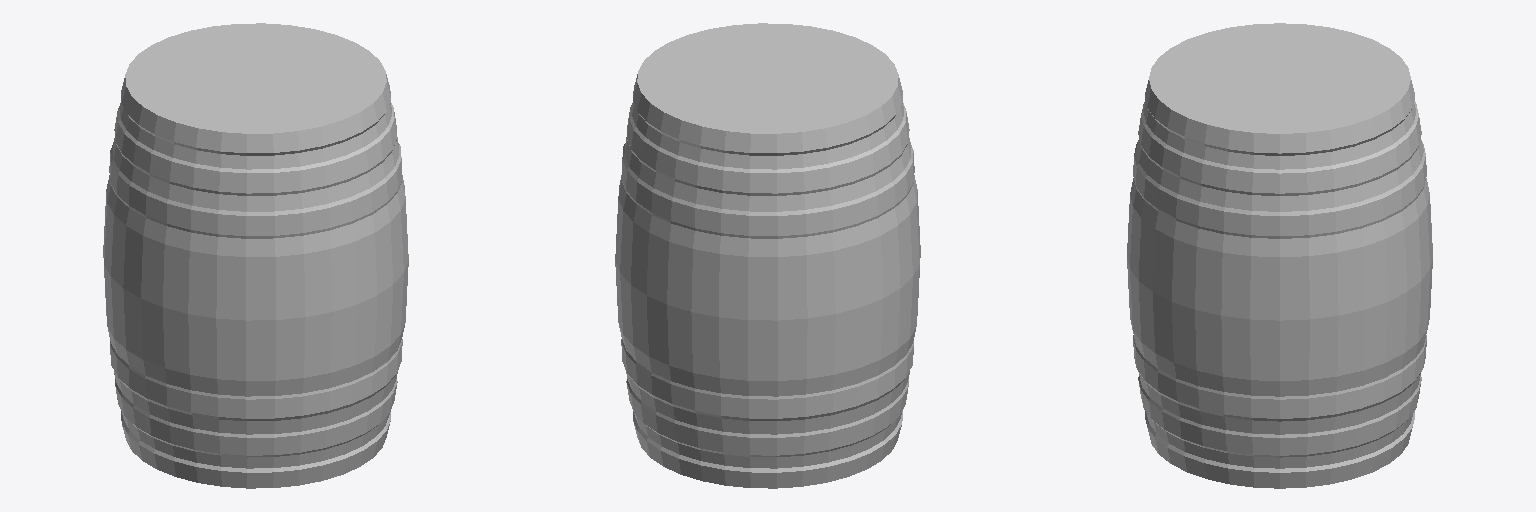
File: barrel.obj
The picture shows the model from 3 angles: view 1: azimuth 30°, elevation 25°; view 2: azimuth 150°, elevation 25°; view 3: azimuth 270°, elevation 25°; orthographic projection.
Parts seen in each view (by area): view 1: Mesh_Mesh_Cylinder.001; view 2: Mesh_Mesh_Cylinder.001; view 3: Mesh_Mesh_Cylinder.001.
Boxes of the visible parts, box(x1,y1,x2,y2) form: Mesh_Mesh_Cylinder.001: box(103, 23, 408, 488); Mesh_Mesh_Cylinder.001: box(615, 23, 920, 488); Mesh_Mesh_Cylinder.001: box(1127, 23, 1432, 488).
Bounding box in the file's own units: 3.18 × 4.06 × 3.18.